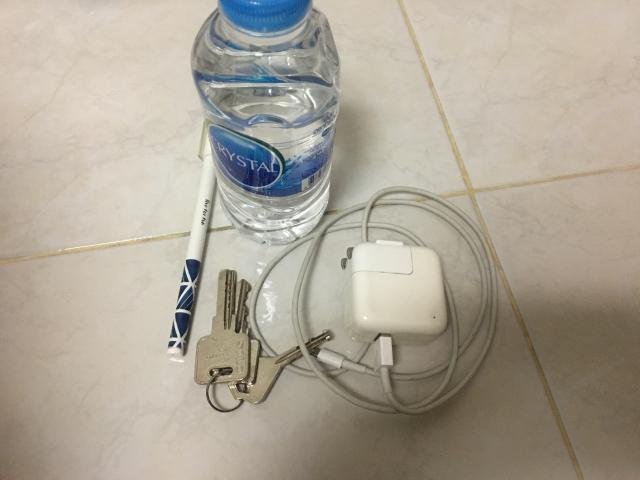Keys: (195, 270, 333, 411)
Pen: (168, 134, 216, 358)
bottle: (191, 0, 340, 244)
wire: (250, 186, 498, 415)
